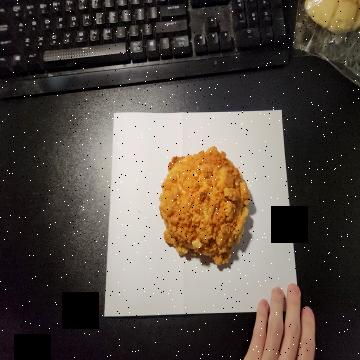soboru_bread: (159, 147, 250, 272)
